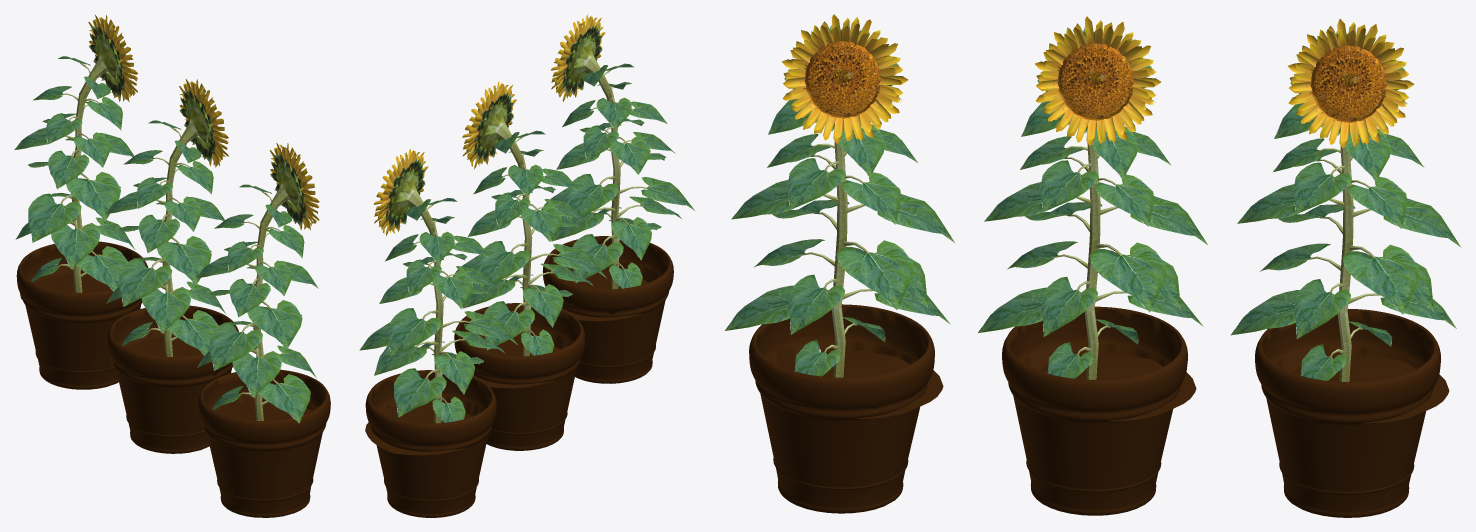
Rendered from Room2-SunFlower.glb.
3 renders of one model, left to right at view 1: azimuth 30°, elevation 25°; view 2: azimuth 150°, elevation 25°; view 3: azimuth 270°, elevation 25°, orthographic. The views are drawn at different scales.
Parts seen in each view (by area): view 1: Plant_Pot_Soil_Plant_Pot_Soil_M_0.047; view 2: Plant_Pot_Soil_Plant_Pot_Soil_M_0.047; view 3: Plant_Pot_Soil_Plant_Pot_Soil_M_0.047.
Boxes of the visible parts, x1=… form: Plant_Pot_Soil_Plant_Pot_Soil_M_0.047: x1=14, y1=15, x2=330, y2=517; Plant_Pot_Soil_Plant_Pot_Soil_M_0.047: x1=359, y1=14, x2=694, y2=517; Plant_Pot_Soil_Plant_Pot_Soil_M_0.047: x1=725, y1=14, x2=1461, y2=517.
Size of the model in its own units: 2.31 by 6.06 by 8.21.
2 materials, 1 textured.
